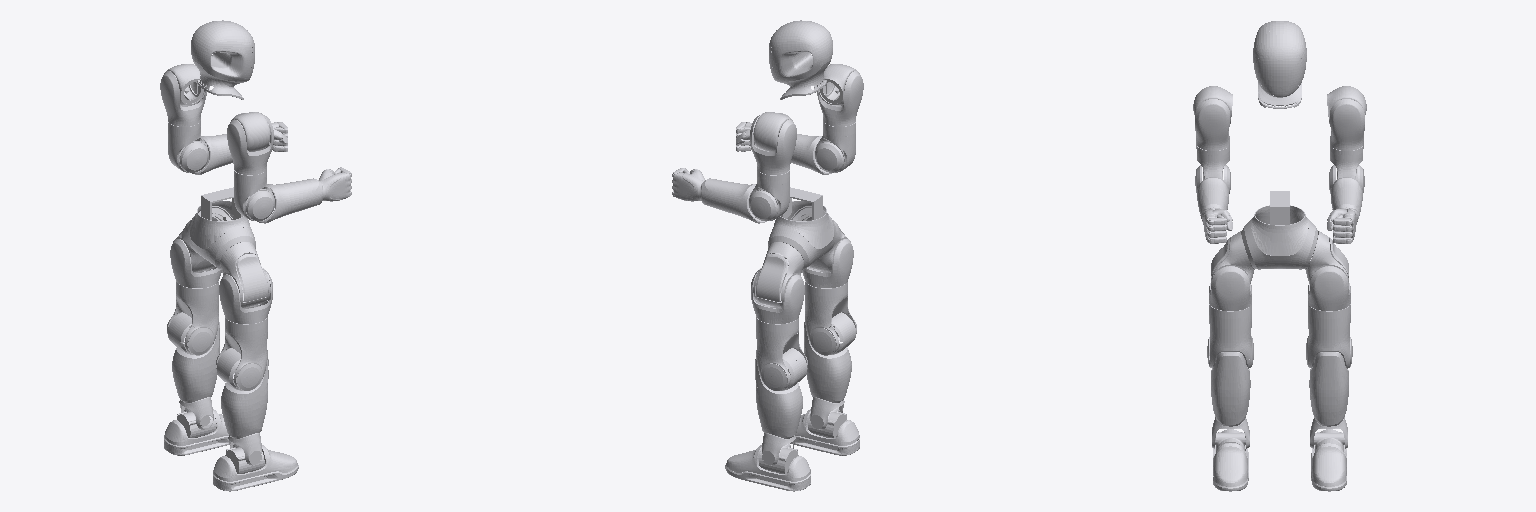
The robot description file, URDF, robot "q1_v3":
<?xml version='1.0' encoding='utf-8'?>
<robot name="q1_v3">
  <mujoco>
    <compiler
    meshdir="../meshes/"
    balanceinertia="true"
    discardvisual="false"
    fusestatic="false" />
  </mujoco>
  <link name="pelvis">
    <inertial>
      <origin xyz="0.002043 -4e-06 0.049044" rpy="0 0 0" />
      <mass value="1.82817" />
      <inertia ixx="0.004199" ixy="1e-06" ixz="-7.6e-05" iyy="0.002489" iyz="0.0" izz="0.003016" />
    </inertial>
    <visual>
      <origin xyz="0 0 0" rpy="0 0 0" />
      <geometry>
        <mesh filename="../meshes/pelvis.STL" />
      </geometry>
      <material name="">
        <color rgba="0.86667 0.86667 0.8902 1" />
      </material>
    </visual>
    <collision>
      <origin xyz="0 0 0" rpy="0 0 0" />
      <geometry>
        <cylinder radius="0.01" length="0.01"/>
      </geometry>
    </collision>
  </link>
  <link name="left_hip_pitch_link">
    <inertial>
      <origin xyz="0.002982 0.032002 -0.02996" rpy="0 0 0" />
      <mass value="0.71997" />
      <inertia ixx="0.000618" ixy="-5e-06" ixz="1e-05" iyy="0.000575" iyz="9.3e-05" izz="0.000511" />
    </inertial>
    <visual>
      <origin xyz="0 0 0" rpy="0 0 0" />
      <geometry>
        <mesh filename="../meshes/left_hip_pitch_link.STL" />
      </geometry>
      <material name="">
        <color rgba="0.86667 0.86667 0.8902 1" />
      </material>
    </visual>
  </link>
  <joint name="left_hip_pitch_joint" type="revolute">
    <origin xyz="0.0015 0.067658 0.021375" rpy="-0.34907 0 0" />
    <parent link="pelvis" />
    <child link="left_hip_pitch_link" />
    <axis xyz="0 1 0" />
    <limit lower="-3.0543" upper="1.5708" effort="36" velocity="36.0" />
  </joint>
  <link name="left_hip_roll_link">
    <inertial>
      <origin xyz="0.001846 0.000235 -0.022324" rpy="0 0 0" />
      <mass value="0.216824" />
      <inertia ixx="0.000173" ixy="-1e-06" ixz="-7e-06" iyy="0.000304" iyz="0.0" izz="0.000289" />
    </inertial>
    <visual>
      <origin xyz="0 0 0" rpy="0 0 0" />
      <geometry>
        <mesh filename="../meshes/left_hip_roll_link.STL" />
      </geometry>
      <material name="">
        <color rgba="0.86667 0.86667 0.8902 1" />
      </material>
    </visual>
  </link>
  <joint name="left_hip_roll_joint" type="revolute">
    <origin xyz="0 0.036796 -0.034098" rpy="0.34907 0 0" />
    <parent link="left_hip_pitch_link" />
    <child link="left_hip_roll_link" />
    <axis xyz="1 0 0" />
    <limit lower="-0.69813" upper="1.5708" effort="36" velocity="36.0" />
  </joint>
  <link name="left_hip_yaw_link">
    <inertial>
      <origin xyz="-0.00062 0.000254 -0.032699" rpy="0 0 0" />
      <mass value="0.774729" />
      <inertia ixx="0.001415" ixy="4e-06" ixz="-6.6e-05" iyy="0.001312" iyz="1.9e-05" izz="0.000595" />
    </inertial>
    <visual>
      <origin xyz="0 0 0" rpy="0 0 0" />
      <geometry>
        <mesh filename="../meshes/left_hip_yaw_link.STL" />
      </geometry>
      <material name="">
        <color rgba="0.86667 0.86667 0.8902 1" />
      </material>
    </visual>
  </link>
  <joint name="left_hip_yaw_joint" type="revolute">
    <origin xyz="0 0 -0.05825" rpy="0 0 0" />
    <parent link="left_hip_roll_link" />
    <child link="left_hip_yaw_link" />
    <axis xyz="0 0 1" />
    <limit lower="-1.5708" upper="1.5708" effort="36" velocity="36.0" />
  </joint>
  <link name="left_knee_link">
    <inertial>
      <origin xyz="0.007981 0.001666 -0.042278" rpy="0 0 0" />
      <mass value="1.140632" />
      <inertia ixx="0.003244" ixy="-3e-06" ixz="0.000276" iyy="0.003303" iyz="-1e-06" izz="0.000809" />
    </inertial>
    <visual>
      <origin xyz="0 0 0" rpy="0 0 0" />
      <geometry>
        <mesh filename="../meshes/left_knee_link.STL" />
      </geometry>
      <material name="">
        <color rgba="0.86667 0.86667 0.8902 1" />
      </material>
    </visual>
  </link>
  <joint name="left_knee_joint" type="revolute">
    <origin xyz="-0.015 0 -0.107" rpy="0 0 0" />
    <parent link="left_hip_yaw_link" />
    <child link="left_knee_link" />
    <axis xyz="0 1 0" />
    <limit lower="0" upper="2.4435" effort="36" velocity="36.0" />
  </joint>
  <link name="left_ankle_pitch_link">
    <inertial>
      <origin xyz="-0.006322 0.001621 0.0075" rpy="0 0 0" />
      <mass value="0.561344" />
      <inertia ixx="0.001386" ixy="2e-06" ixz="0.000168" iyy="0.001427" iyz="-8.3e-05" izz="0.000295" />
    </inertial>
    <visual>
      <origin xyz="0 0 0" rpy="0 0 0" />
      <geometry>
        <mesh filename="../meshes/left_ankle_pitch_link.STL" />
      </geometry>
      <material name="">
        <color rgba="0.86667 0.86667 0.8902 1" />
      </material>
    </visual>
  </link>
  <joint name="left_ankle_pitch_joint" type="revolute">
    <origin xyz="0.015015 0 -0.16999" rpy="0 0 0" />
    <parent link="left_knee_link" />
    <child link="left_ankle_pitch_link" />
    <axis xyz="0 1 0" />
    <limit lower="-0.7854" upper="0.43633" effort="22" velocity="32.0" />
  </joint>
  <link name="left_ankle_roll_link">
    <inertial>
      <origin xyz="0.021254 0.000419 -0.025336" rpy="0 0 0" />
      <mass value="0.282436" />
      <inertia ixx="0.000108" ixy="0.0" ixz="1.7e-05" iyy="0.000624" iyz="0.0" izz="0.000657" />
    </inertial>
    <visual>
      <origin xyz="0 0 0" rpy="0 0 0" />
      <geometry>
        <mesh filename="../meshes/left_ankle_roll_link.STL" />
      </geometry>
      <material name="">
        <color rgba="0.86667 0.86667 0.8902 1" />
      </material>
    </visual>
  </link>
  <joint name="left_ankle_roll_joint" type="revolute">
    <origin xyz="-0.0069 -1.5787E-05 -0.02" rpy="0 0 0" />
    <parent link="left_ankle_pitch_link" />
    <child link="left_ankle_roll_link" />
    <axis xyz="1 0 0" />
    <limit lower="-0.34907" upper="0.34907" effort="22" velocity="32.0" />
  </joint>
  <link name="right_hip_pitch_link">
    <inertial>
      <origin xyz="0.002982 -0.032044 -0.029887" rpy="0 0 0" />
      <mass value="0.719985" />
      <inertia ixx="0.000618" ixy="4e-06" ixz="1.2e-05" iyy="0.000575" iyz="-9.3e-05" izz="0.000511" />
    </inertial>
    <visual>
      <origin xyz="0 0 0" rpy="0 0 0" />
      <geometry>
        <mesh filename="../meshes/right_hip_pitch_link.STL" />
      </geometry>
      <material name="">
        <color rgba="0.86667 0.86667 0.8902 1" />
      </material>
    </visual>
  </link>
  <joint name="right_hip_pitch_joint" type="revolute">
    <origin xyz="0.0015 -0.067658 0.021375" rpy="0.34907 0 0" />
    <parent link="pelvis" />
    <child link="right_hip_pitch_link" />
    <axis xyz="0 1 0" />
    <limit lower="-3.0543" upper="1.5708" effort="36" velocity="36.0" />
  </joint>
  <link name="right_hip_roll_link">
    <inertial>
      <origin xyz="0.001847 0.000175 -0.022324" rpy="0 0 0" />
      <mass value="0.216808" />
      <inertia ixx="0.000173" ixy="-2e-06" ixz="-7e-06" iyy="0.000304" iyz="1e-06" izz="0.000289" />
    </inertial>
    <visual>
      <origin xyz="0 0 0" rpy="0 0 0" />
      <geometry>
        <mesh filename="../meshes/right_hip_roll_link.STL" />
      </geometry>
      <material name="">
        <color rgba="0.86667 0.86667 0.8902 1" />
      </material>
    </visual>
  </link>
  <joint name="right_hip_roll_joint" type="revolute">
    <origin xyz="0 -0.036796 -0.034098" rpy="-0.34907 0 0" />
    <parent link="right_hip_pitch_link" />
    <child link="right_hip_roll_link" />
    <axis xyz="1 0 0" />
    <limit lower="-1.5708" upper="0.69813" effort="36" velocity="36.0" />
  </joint>
  <link name="right_hip_yaw_link">
    <inertial>
      <origin xyz="-0.00062 -0.000295 -0.032699" rpy="0 0 0" />
      <mass value="0.774706" />
      <inertia ixx="0.001415" ixy="-4e-06" ixz="-6.6e-05" iyy="0.001312" iyz="-1.9e-05" izz="0.000595" />
    </inertial>
    <visual>
      <origin xyz="0 0 0" rpy="0 0 0" />
      <geometry>
        <mesh filename="../meshes/right_hip_yaw_link.STL" />
      </geometry>
      <material name="">
        <color rgba="0.86667 0.86667 0.8902 1" />
      </material>
    </visual>
  </link>
  <joint name="right_hip_yaw_joint" type="revolute">
    <origin xyz="0 0 -0.05825" rpy="0 0 0" />
    <parent link="right_hip_roll_link" />
    <child link="right_hip_yaw_link" />
    <axis xyz="0 0 1" />
    <limit lower="-1.5708" upper="1.5708" effort="36" velocity="36.0" />
  </joint>
  <link name="right_knee_link">
    <inertial>
      <origin xyz="0.007983 -0.001681 -0.042258" rpy="0 0 0" />
      <mass value="1.140145" />
      <inertia ixx="0.003245" ixy="4e-06" ixz="0.000276" iyy="0.003304" iyz="1e-06" izz="0.000808" />
    </inertial>
    <visual>
      <origin xyz="0 0 0" rpy="0 0 0" />
      <geometry>
        <mesh filename="../meshes/right_knee_link.STL" />
      </geometry>
      <material name="">
        <color rgba="0.86667 0.86667 0.8902 1" />
      </material>
    </visual>
  </link>
  <joint name="right_knee_joint" type="revolute">
    <origin xyz="-0.015 0 -0.107" rpy="0 0 0" />
    <parent link="right_hip_yaw_link" />
    <child link="right_knee_link" />
    <axis xyz="0 1 0" />
    <limit lower="0" upper="2.4435" effort="36" velocity="36.0" />
  </joint>
  <link name="right_ankle_pitch_link">
    <inertial>
      <origin xyz="-0.006317 -0.001564 0.007575" rpy="0 0 0" />
      <mass value="0.561811" />
      <inertia ixx="0.00139" ixy="-2e-06" ixz="0.000168" iyy="0.00143" iyz="8.2e-05" izz="0.000296" />
    </inertial>
    <visual>
      <origin xyz="0 0 0" rpy="0 0 0" />
      <geometry>
        <mesh filename="../meshes/right_ankle_pitch_link.STL" />
      </geometry>
      <material name="">
        <color rgba="0.86667 0.86667 0.8902 1" />
      </material>
    </visual>
  </link>
  <joint name="right_ankle_pitch_joint" type="revolute">
    <origin xyz="0.015015 0 -0.16999" rpy="0 0 0" />
    <parent link="right_knee_link" />
    <child link="right_ankle_pitch_link" />
    <axis xyz="0 1 0" />
    <limit lower="-0.7854" upper="0.43633" effort="22" velocity="32.0" />
  </joint>
  <link name="right_ankle_roll_link">
    <inertial>
      <origin xyz="0.021254 0.000419 -0.025336" rpy="0 0 0" />
      <mass value="0.282436" />
      <inertia ixx="0.000108" ixy="0.0" ixz="1.7e-05" iyy="0.000624" iyz="0.0" izz="0.000657" />
    </inertial>
    <visual>
      <origin xyz="0 0 0" rpy="0 0 0" />
      <geometry>
        <mesh filename="../meshes/right_ankle_roll_link.STL" />
      </geometry>
      <material name="">
        <color rgba="0.86667 0.86667 0.8902 1" />
      </material>
    </visual>
  </link>
  <joint name="right_ankle_roll_joint" type="revolute">
    <origin xyz="-0.0069 1.5787E-05 -0.02" rpy="0 0 0" />
    <parent link="right_ankle_pitch_link" />
    <child link="right_ankle_roll_link" />
    <axis xyz="1 0 0" />
    <limit lower="-0.34907" upper="0.34907" effort="22" velocity="32.0" />
  </joint>
  <link name="waist_roll_link">
    <inertial>
      <origin xyz="0.00395 0.0 0.02317" rpy="0 0 0" />
      <mass value="0.146116" />
      <inertia ixx="7e-05" ixy="0.0" ixz="1.6e-05" iyy="0.000149" iyz="0.0" izz="0.000119" />
    </inertial>
    <visual>
      <origin xyz="0 0 0" rpy="0 0 0" />
      <geometry>
        <mesh filename="../meshes/waist_roll_link.STL" />
      </geometry>
      <material name="">
        <color rgba="0.86667 0.86667 0.8902 1" />
      </material>
    </visual>
  </link>
  <joint name="waist_roll_joint" type="revolute">
    <origin xyz="0.0015 0 0.0895" rpy="0 0 0" />
    <parent link="pelvis" />
    <child link="waist_roll_link" />
    <axis xyz="1 0 0" />
    <limit lower="-0.2618" upper="0.2618" effort="36" velocity="36.0" />
  </joint>
  <link name="torso_link">
    <inertial>
      <origin xyz="-0.010367 -2.6e-05 0.109852" rpy="0 0 0" />
      <mass value="4.154173" />
      <inertia ixx="0.021941" ixy="-2.1e-05" ixz="0.000947" iyy="0.018364" iyz="-5.5e-05" izz="0.011798" />
    </inertial>
    <visual>
      <origin xyz="0 0 0" rpy="0 0 0" />
      <geometry>
        <mesh filename="../meshes/torso_link.STL" />
      </geometry>
      <material name="">
        <color rgba="0.86667 0.86667 0.8902 1" />
      </material>
    </visual>
  </link>
  <joint name="waist_yaw_joint" type="revolute">
    <origin xyz="0 0 0.041" rpy="0 0 0" />
    <parent link="waist_roll_link" />
    <child link="torso_link" />
    <axis xyz="0 0 1" />
    <limit lower="-1.5708" upper="1.5708" effort="36" velocity="36.0" />
  </joint>
  <link name="left_shoulder_pitch_link">
    <inertial>
      <origin xyz="0.003739 0.034673 -0.000115" rpy="0 0 0" />
      <mass value="0.372709" />
      <inertia ixx="0.00016" ixy="0.0" ixz="0.0" iyy="0.000146" iyz="0.0" izz="0.000157" />
    </inertial>
    <visual>
      <origin xyz="0 0 0" rpy="0 0 0" />
      <geometry>
        <mesh filename="../meshes/left_shoulder_pitch_link.STL" />
      </geometry>
      <material name="">
        <color rgba="0.86667 0.86667 0.8902 1" />
      </material>
    </visual>
  </link>
  <joint name="left_shoulder_pitch_joint" type="revolute">
    <origin xyz="-0.01 0.086836 0.17439" rpy="0.087266 0 0" />
    <parent link="torso_link" />
    <child link="left_shoulder_pitch_link" />
    <axis xyz="0 1 0" />
    <limit lower="-3.1416" upper="1.5708" effort="22" velocity="32.0" />
  </joint>
  <link name="left_shoulder_roll_link">
    <inertial>
      <origin xyz="0.000769 0.000155 -0.058737" rpy="0 0 0" />
      <mass value="0.402293" />
      <inertia ixx="0.000345" ixy="0.0" ixz="-2.2e-05" iyy="0.000404" iyz="-2e-06" izz="0.000201" />
    </inertial>
    <visual>
      <origin xyz="0 0 0" rpy="0 0 0" />
      <geometry>
        <mesh filename="../meshes/left_shoulder_roll_link.STL" />
      </geometry>
      <material name="">
        <color rgba="0.86667 0.86667 0.8902 1" />
      </material>
    </visual>
  </link>
  <joint name="left_shoulder_roll_joint" type="revolute">
    <origin xyz="0 0.0358 0" rpy="-0.087266 0 0" />
    <parent link="left_shoulder_pitch_link" />
    <child link="left_shoulder_roll_link" />
    <axis xyz="1 0 0" />
    <limit lower="-0.087266" upper="2.7925" effort="22" velocity="32.0" />
  </joint>
  <link name="left_shoulder_yaw_link">
    <inertial>
      <origin xyz="0.008348 -0.000885 -0.063901" rpy="0 0 0" />
      <mass value="0.392666" />
      <inertia ixx="0.000235" ixy="-1e-06" ixz="2.3e-05" iyy="0.000246" iyz="1e-06" izz="0.000146" />
    </inertial>
    <visual>
      <origin xyz="0 0 0" rpy="0 0 0" />
      <geometry>
        <mesh filename="../meshes/left_shoulder_yaw_link.STL" />
      </geometry>
      <material name="">
        <color rgba="0.86667 0.86667 0.8902 1" />
      </material>
    </visual>
  </link>
  <joint name="left_shoulder_yaw_joint" type="revolute">
    <origin xyz="0 0 -0.0736" rpy="0 0 0" />
    <parent link="left_shoulder_roll_link" />
    <child link="left_shoulder_yaw_link" />
    <axis xyz="0 0 1" />
    <limit lower="-1.5708" upper="1.5708" effort="22" velocity="32.0" />
  </joint>
  <link name="left_elbow_link">
    <inertial>
      <origin xyz="0.095102 -0.003258 -0.00698" rpy="0 0 0" />
      <mass value="0.300554" />
      <inertia ixx="0.000153" ixy="-1.6e-05" ixz="2.5e-05" iyy="0.001505" iyz="6e-06" izz="0.001532" />
    </inertial>
    <visual>
      <origin xyz="0 0 0" rpy="0 0 0" />
      <geometry>
        <mesh filename="../meshes/left_elbow_link.STL" />
      </geometry>
      <material name="">
        <color rgba="0.86667 0.86667 0.8902 1" />
      </material>
    </visual>
  </link>
  <joint name="left_elbow_joint" type="revolute">
    <origin xyz="0.01 0 -0.0706" rpy="0 0 0" />
    <parent link="left_shoulder_yaw_link" />
    <child link="left_elbow_link" />
    <axis xyz="0 1 0" />
    <limit lower="-0.87266" upper="1.6581" effort="22" velocity="32.0" />
  </joint>
  <link name="left_wrist_yaw_link">
    <inertial>
      <origin xyz="-0.08 0 0" rpy="0 0 0" />
      <mass value="0.02" />
      <inertia ixx="1e-5" ixy="1e-7" ixz="1e-7" iyy="1e-5" iyz="1e-7" izz="1e-5" />
    </inertial>
  </link>
  <joint name="left_wrist_yaw_joint" type="fixed" dont_collapse="true">
    <origin xyz="0.126588 0 -0.01" rpy="0 0 0" />
    <parent link="left_elbow_link" />
    <child link="left_wrist_yaw_link" />
    <axis xyz="1 0 0" />
    <limit lower="-1.57" upper="1.57" effort="22" velocity="32.0" />
  </joint>
  <link name="right_shoulder_pitch_link">
    <inertial>
      <origin xyz="0.003756 -0.034638 -0.00017" rpy="0 0 0" />
      <mass value="0.373107" />
      <inertia ixx="0.000161" ixy="0.0" ixz="0.0" iyy="0.000146" iyz="0.0" izz="0.000157" />
    </inertial>
    <visual>
      <origin xyz="0 0 0" rpy="0 0 0" />
      <geometry>
        <mesh filename="../meshes/right_shoulder_pitch_link.STL" />
      </geometry>
      <material name="">
        <color rgba="0.86667 0.86667 0.8902 1" />
      </material>
    </visual>
  </link>
  <joint name="right_shoulder_pitch_joint" type="revolute">
    <origin xyz="-0.01 -0.086836 0.17439" rpy="-0.087266 0 0" />
    <parent link="torso_link" />
    <child link="right_shoulder_pitch_link" />
    <axis xyz="0 1 0" />
    <limit lower="-3.1416" upper="1.5708" effort="22" velocity="32.0" />
  </joint>
  <link name="right_shoulder_roll_link">
    <inertial>
      <origin xyz="0.000848 -0.000152 -0.058719" rpy="0 0 0" />
      <mass value="0.402539" />
      <inertia ixx="0.000346" ixy="0.0" ixz="-2.3e-05" iyy="0.000406" iyz="2e-06" izz="0.000202" />
    </inertial>
    <visual>
      <origin xyz="0 0 0" rpy="0 0 0" />
      <geometry>
        <mesh filename="../meshes/right_shoulder_roll_link.STL" />
      </geometry>
      <material name="">
        <color rgba="0.86667 0.86667 0.8902 1" />
      </material>
    </visual>
  </link>
  <joint name="right_shoulder_roll_joint" type="revolute">
    <origin xyz="0 -0.0358 0" rpy="0.087266 0 0" />
    <parent link="right_shoulder_pitch_link" />
    <child link="right_shoulder_roll_link" />
    <axis xyz="1 0 0" />
    <limit lower="-2.7925" upper="0.087266" effort="22" velocity="32.0" />
  </joint>
  <link name="right_shoulder_yaw_link">
    <inertial>
      <origin xyz="0.008305 0.000904 -0.063854" rpy="0 0 0" />
      <mass value="0.393132" />
      <inertia ixx="0.000235" ixy="1e-06" ixz="2.3e-05" iyy="0.000246" iyz="-1e-06" izz="0.000146" />
    </inertial>
    <visual>
      <origin xyz="0 0 0" rpy="0 0 0" />
      <geometry>
        <mesh filename="../meshes/right_shoulder_yaw_link.STL" />
      </geometry>
      <material name="">
        <color rgba="0.86667 0.86667 0.8902 1" />
      </material>
    </visual>
  </link>
  <joint name="right_shoulder_yaw_joint" type="revolute">
    <origin xyz="0 0 -0.0736" rpy="0 0 0" />
    <parent link="right_shoulder_roll_link" />
    <child link="right_shoulder_yaw_link" />
    <axis xyz="0 0 1" />
    <limit lower="-1.5708" upper="1.5708" effort="22" velocity="32.0" />
  </joint>
  <link name="right_elbow_link">
    <inertial>
      <origin xyz="0.095035 0.003297 -0.006968" rpy="0 0 0" />
      <mass value="0.300774" />
      <inertia ixx="0.000153" ixy="1.7e-05" ixz="2.5e-05" iyy="0.001508" iyz="-6e-06" izz="0.001535" />
    </inertial>
    <visual>
      <origin xyz="0 0 0" rpy="0 0 0" />
      <geometry>
        <mesh filename="../meshes/right_elbow_link.STL" />
      </geometry>
      <material name="">
        <color rgba="0.86667 0.86667 0.8902 1" />
      </material>
    </visual>
  </link>
  <joint name="right_elbow_joint" type="revolute">
    <origin xyz="0.01 0 -0.0706" rpy="0 0 0" />
    <parent link="right_shoulder_yaw_link" />
    <child link="right_elbow_link" />
    <axis xyz="0 1 0" />
    <limit lower="-0.87266" upper="1.6581" effort="22" velocity="32.0" />
  </joint>
  <link name="right_wrist_yaw_link">
    <inertial>
      <origin xyz="-0.08 0 0" rpy="0 0 0" />
      <mass value="0.02" />
      <inertia ixx="1e-5" ixy="1e-7" ixz="1e-7" iyy="1e-5" iyz="1e-7" izz="1e-5" />
    </inertial>
  </link>
  <joint name="right_wrist_yaw_joint" type="fixed" dont_collapse="true">
    <origin xyz="0.126588 0 -0.01" rpy="0 0 0" />
    <parent link="right_elbow_link" />
    <child link="right_wrist_yaw_link" />
    <axis xyz="1 0 0" />
    <limit lower="-1.57" upper="1.57" effort="22" velocity="32.0" />
  </joint>
  <link name="head_link">
    <inertial>
      <origin xyz="0.00646 -0.000509 0.015466" rpy="0 0 0" />
      <mass value="0.419239" />
      <inertia ixx="0.000888" ixy="7e-06" ixz="4.9e-05" iyy="0.001167" iyz="2e-06" izz="0.000822" />
    </inertial>
    <visual>
      <origin xyz="0 0 0" rpy="0 0 0" />
      <geometry>
        <mesh filename="../meshes/head_link.STL" />
      </geometry>
      <material name="">
        <color rgba="0.86667 0.86667 0.8902 1" />
      </material>
    </visual>
  </link>
  <joint name="head_joint" type="fixed" dont_collapse="true">
    <origin xyz="0 0 0.2625" rpy="0 0 0" />
    <parent link="torso_link" />
    <child link="head_link" />
    <axis xyz="0 0 0" />
  </joint>
</robot>

--- Facts derived from the render (not from the file) ---
3 views of the same robot in one strip: view 1: azimuth 30°, elevation 25°; view 2: azimuth 150°, elevation 25°; view 3: azimuth 270°, elevation 25° (orthographic).
Robot: q1_v3 — 26 links, 25 joints (22 revolute, 3 fixed); root link pelvis; default pose: all joints at 0.
Visible links, largest first — view 1: head_link, right_knee_link, left_knee_link, right_elbow_link, pelvis, left_hip_yaw_link, right_hip_yaw_link, right_hip_pitch_link, right_ankle_roll_link, left_elbow_link, left_ankle_roll_link, right_shoulder_roll_link (+10 smaller); view 2: head_link, left_knee_link, right_knee_link, left_elbow_link, pelvis, right_hip_yaw_link, left_hip_yaw_link, left_hip_pitch_link, left_ankle_roll_link, right_elbow_link, right_ankle_roll_link, left_shoulder_roll_link (+10 smaller); view 3: head_link, pelvis, right_knee_link, left_knee_link, left_hip_yaw_link, right_hip_yaw_link, left_elbow_link, right_elbow_link, left_hip_roll_link, right_hip_roll_link, left_shoulder_roll_link, right_shoulder_roll_link (+9 smaller).
Boxes of the visible links, x1,y1,x2,y2 form: head_link: (191,20,254,99); right_knee_link: (217,348,268,465); left_knee_link: (168,312,219,429); right_elbow_link: (246,167,351,223); pelvis: (187,201,255,269); left_hip_yaw_link: (167,271,218,355); right_hip_yaw_link: (216,307,267,390); right_hip_pitch_link: (220,242,270,307); right_ankle_roll_link: (213,445,298,491); left_elbow_link: (180,122,287,174); left_ankle_roll_link: (164,409,231,455); right_shoulder_roll_link: (227,113,273,174); head_link: (769,20,832,99); left_knee_link: (755,348,806,465); right_knee_link: (804,312,855,429); left_elbow_link: (672,168,777,223); pelvis: (768,201,836,269); right_hip_yaw_link: (805,271,856,355); left_hip_yaw_link: (756,307,807,390); left_hip_pitch_link: (753,242,803,307); left_ankle_roll_link: (725,445,810,491); right_elbow_link: (736,122,843,174); right_ankle_roll_link: (790,409,859,455); left_shoulder_roll_link: (750,113,796,174); head_link: (1253,21,1306,108); pelvis: (1242,205,1317,269); right_knee_link: (1211,352,1250,448); left_knee_link: (1309,352,1348,448); left_hip_yaw_link: (1306,304,1352,368); right_hip_yaw_link: (1207,304,1253,368); left_elbow_link: (1327,165,1364,243); right_elbow_link: (1195,165,1232,243); left_hip_roll_link: (1308,266,1350,310); right_hip_roll_link: (1209,266,1251,310); left_shoulder_roll_link: (1330,99,1364,150); right_shoulder_roll_link: (1195,99,1229,150).
Bounding box of the posed robot: 0.2688 × 0.3183 × 0.8983 m (x, y, z).
23 mesh visuals loaded from 24 distinct referenced files (23 binary STL); not drawn: 1 (reference not matched to a file when rendering).
